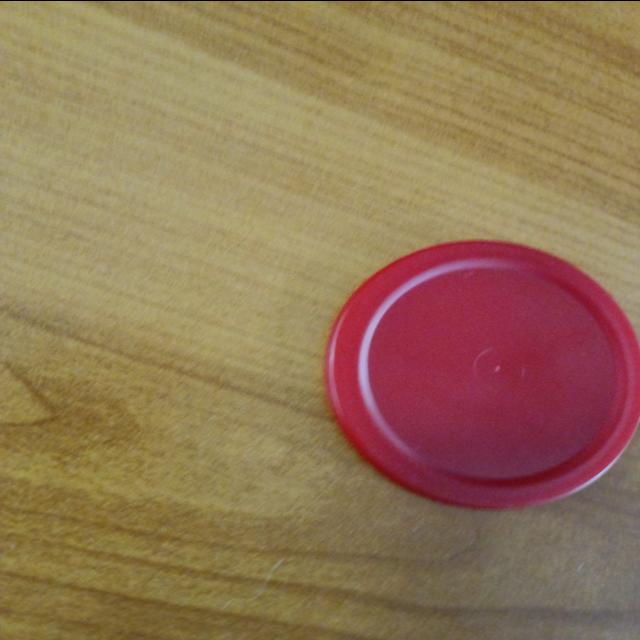chip: (323, 242, 638, 512)
